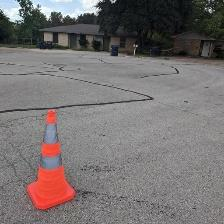traffic cone: (26, 109, 76, 211)
